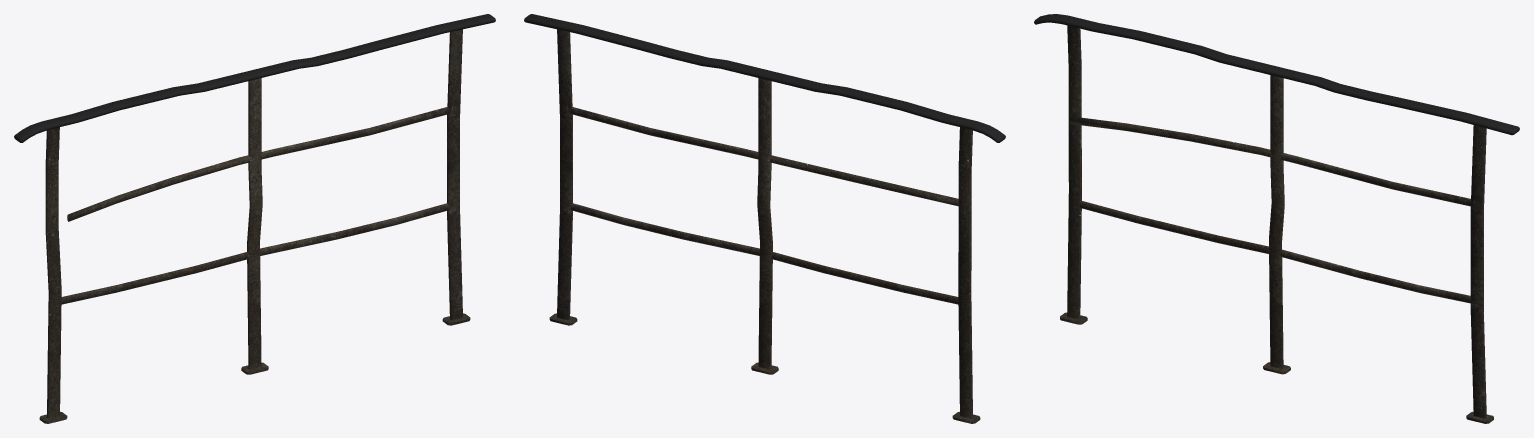
Rendered from hand_rail_3.glb.
The picture shows the model from 3 angles, left to right: view 1: azimuth 30°, elevation 25°; view 2: azimuth 150°, elevation 25°; view 3: azimuth 330°, elevation 25°; orthographic projection.
Parts seen in each view (by area): view 1: hand_rail_3; view 2: hand_rail_3; view 3: hand_rail_3.
Part boxes in pixels (x1=…): hand_rail_3: x1=14, y1=14, x2=495, y2=423; hand_rail_3: x1=524, y1=14, x2=1005, y2=423; hand_rail_3: x1=1034, y1=14, x2=1519, y2=423.
Size of the model in its own units: 2.13 by 1.28 by 0.1054.
2 materials, 2 textured.
